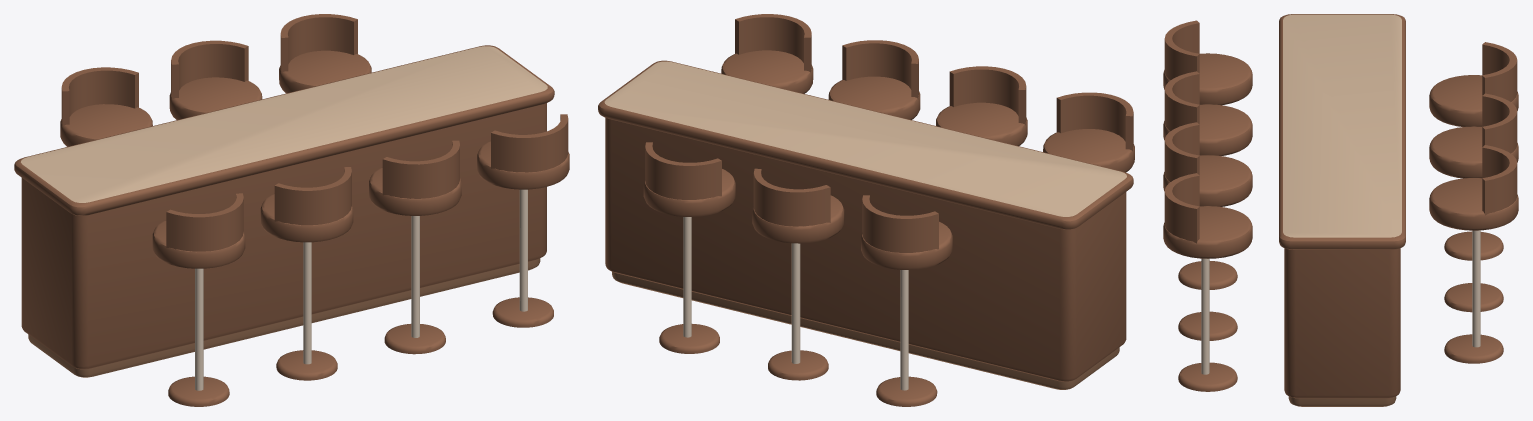
Rendered from Kitchen-Bench.fbx.
The picture shows the model from 3 angles, left to right: view 1: azimuth 30°, elevation 25°; view 2: azimuth 150°, elevation 25°; view 3: azimuth 270°, elevation 25°; orthographic projection. The views are drawn at different scales.
Visible parts, largest first — view 1: Bench, Bench-Chair-4, Bench-Chair-3, Bench-Chair-1, Bench-Chair-2, Bench-Chair-6, Bench-Chair-7, Bench-Chair-5; view 2: Bench, Bench-Chair-6, Bench-Chair-5, Bench-Chair-7, Bench-Chair-3, Bench-Chair-4, Bench-Chair-2, Bench-Chair-1; view 3: Bench, Bench-Chair-5, Bench-Chair-1, Bench-Chair-6, Bench-Chair-7, Bench-Chair-3, Bench-Chair-2, Bench-Chair-4.
Boxes of the visible parts, left/top/right/bottom form: Bench: left=14, top=45, right=554, bottom=377; Bench-Chair-4: left=152, top=193, right=245, bottom=406; Bench-Chair-3: left=260, top=167, right=353, bottom=380; Bench-Chair-1: left=477, top=114, right=569, bottom=327; Bench-Chair-2: left=369, top=140, right=461, bottom=354; Bench-Chair-6: left=169, top=40, right=262, bottom=119; Bench-Chair-7: left=60, top=67, right=152, bottom=146; Bench-Chair-5: left=279, top=14, right=371, bottom=93; Bench: left=598, top=60, right=1133, bottom=389; Bench-Chair-6: left=752, top=168, right=844, bottom=380; Bench-Chair-5: left=643, top=142, right=735, bottom=353; Bench-Chair-7: left=861, top=195, right=952, bottom=406; Bench-Chair-3: left=936, top=66, right=1027, bottom=145; Bench-Chair-4: left=1043, top=92, right=1134, bottom=172; Bench-Chair-2: left=828, top=40, right=920, bottom=119; Bench-Chair-1: left=721, top=14, right=813, bottom=93; Bench: left=1279, top=14, right=1405, bottom=406; Bench-Chair-5: left=1429, top=145, right=1518, bottom=363; Bench-Chair-1: left=1163, top=173, right=1252, bottom=391; Bench-Chair-6: left=1429, top=93, right=1518, bottom=312; Bench-Chair-7: left=1429, top=42, right=1518, bottom=260; Bench-Chair-3: left=1163, top=71, right=1252, bottom=289; Bench-Chair-2: left=1163, top=122, right=1252, bottom=340; Bench-Chair-4: left=1163, top=20, right=1252, bottom=105.
Size of the model in its own units: 6.98 by 2.7 by 4.62.
